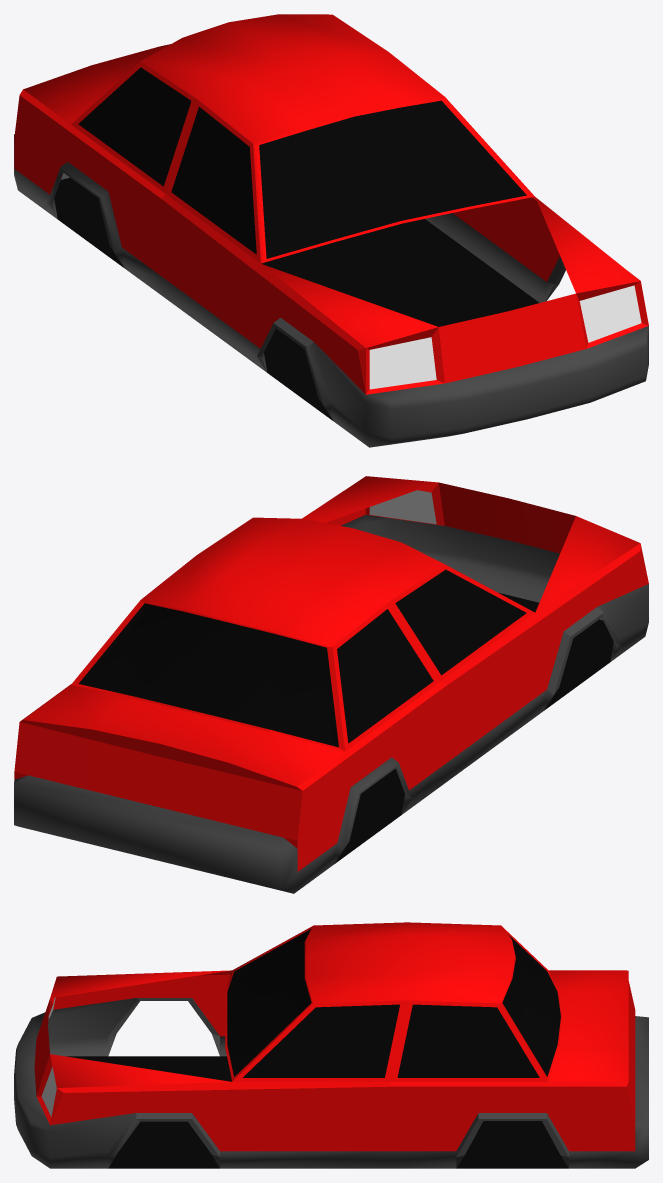
File: car.fbx
The picture shows the model from 3 angles, top to bottom: view 1: azimuth 30°, elevation 25°; view 2: azimuth 150°, elevation 25°; view 3: azimuth 270°, elevation 25°; orthographic projection. The views are drawn at different scales.
Parts seen in each view (by area): view 1: Car_Cube; view 2: Car_Cube; view 3: Car_Cube.
Part boxes in pixels (left/top/right/bottom): Car_Cube: left=14, top=14, right=648, bottom=447; Car_Cube: left=14, top=476, right=648, bottom=893; Car_Cube: left=14, top=922, right=648, bottom=1168.
Size of the model in its own units: 210 by 129 by 467.
